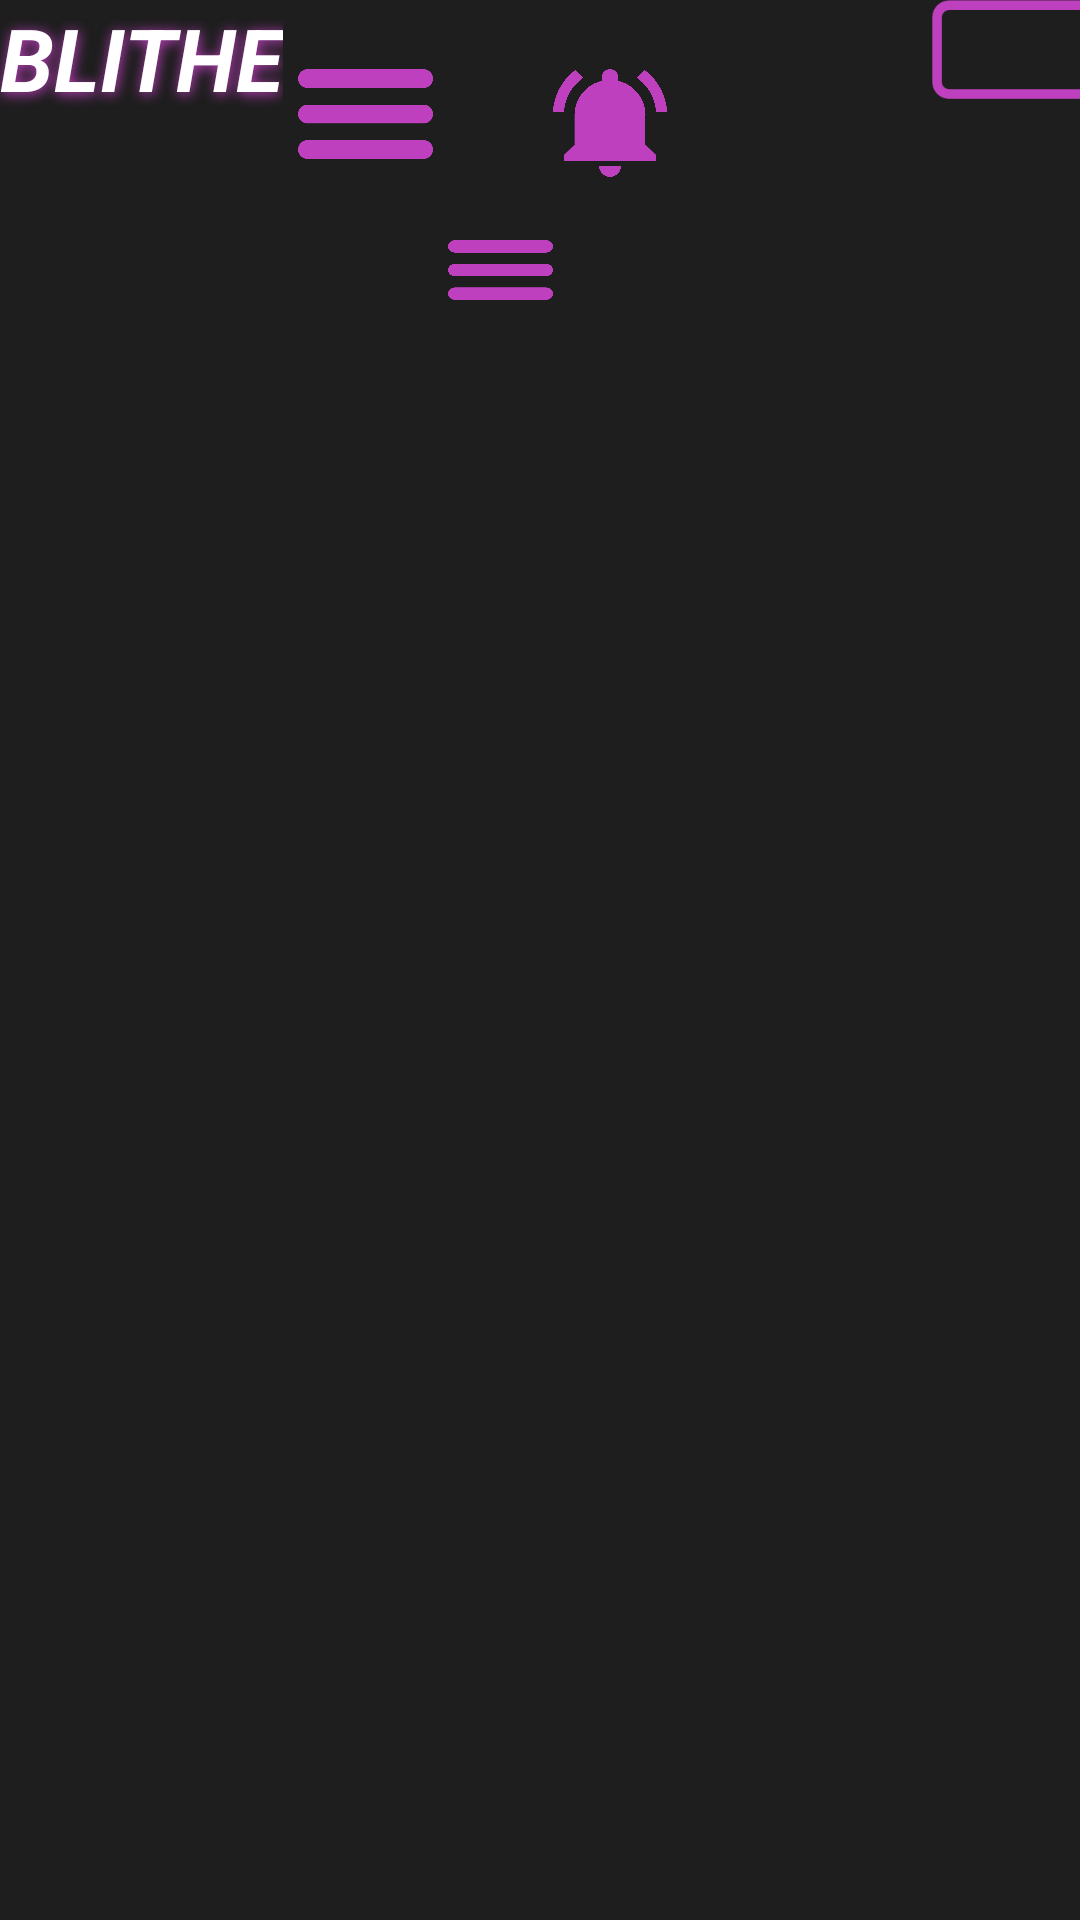

Screen size 1080px×1920px. Icon name, then its center in pixels as [x,y]:
lines: [365,114], [500,270]
